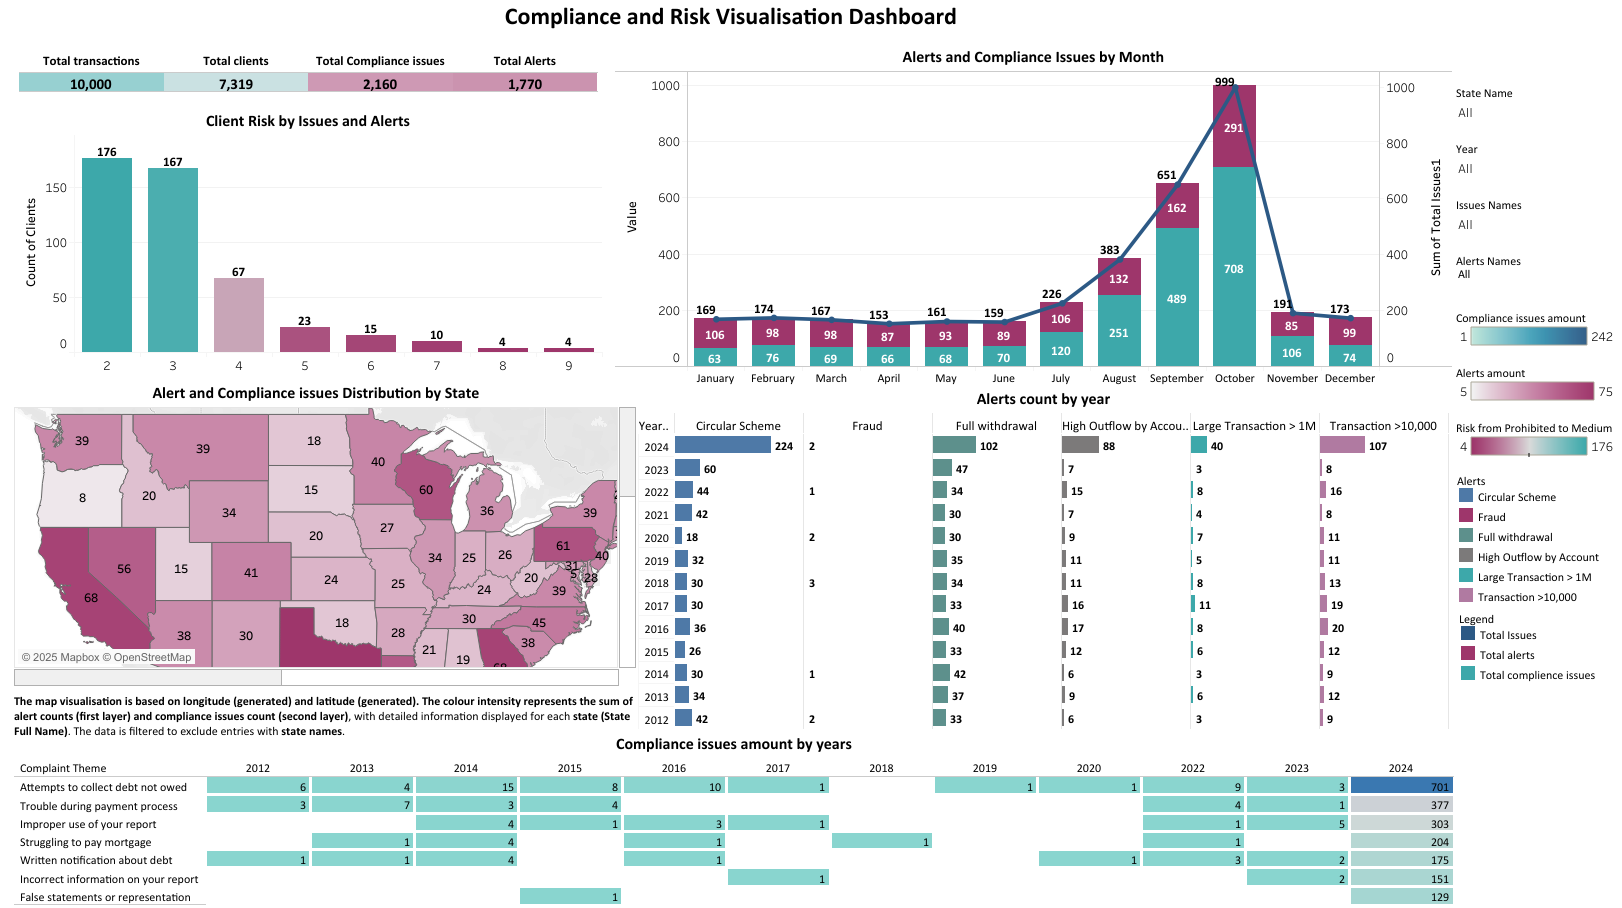

This screenshot's page, from the dashboard's own definition file:
{"tool":"tableau","page":{"name":"Compliance and Risk Visualization Dashboard (2)","canvas":[1623,909],"ordinal":0},"visuals":[{"type":"title","box":[20.9,0,1420.2,36.2]},{"type":"dashboard-object","box":[1388.5,16.7,25.8,22.3]},{"type":"worksheet","title":"Alerts and Compliance Issues by Month and Quarter (2012-2024)","mark":"Bar","rows":["Total Issues"],"cols":["Date received"],"box":[615.5,39.8,836.4,347.7]},{"type":"worksheet","title":"Operational Summary","mark":"Automatic","box":[19,44,579,62]},{"type":"filter","title":"Alert and Compliance issues Distribution by State","param":"[federated.08brgpm1keapxp1dqp4kh0hggp8w].[none:State Full Name:nk]","box":[1451.9,79.6,169.9,52]},{"type":"worksheet","title":"Client Risk by Issues and Alerts","mark":"Automatic","rows":["ACCOUNT_ID (client_compliance_analysis.csv)"],"cols":["Total Issues"],"box":[14.2,103.7,588.1,270.2]},{"type":"filter","title":"Complaint issues count by year","param":"[federated.08brgpm1keapxp1dqp4kh0hggp8w].[yr:Date received (merged_complaint_the","box":[1451.9,131.6,169.9,52]},{"type":"filter","title":"Complaint issues count by year","param":"[federated.08brgpm1keapxp1dqp4kh0hggp8w].[none:Complaint Theme:nk]","box":[1451.9,183.6,169.9,52]},{"type":"filter","title":"Alerts count by year (2012-2024)","param":"[federated.08brgpm1keapxp1dqp4kh0hggp8w].[none:Scenario:nk]","box":[1451.9,235.6,169.9,50]},{"type":"legend","title":"Alert and Compliance issues Distribution by State","param":"[federated.08brgpm1keapxp1dqp4kh0hggp8w].[cnt:Complaint Theme:qk]","box":[1451.9,285.6,169.9,55]},{"type":"legend","title":"Alert and Compliance issues Distribution by State","param":"[federated.08brgpm1keapxp1dqp4kh0hggp8w].[cnt:Scenario:qk]","box":[1451.9,340.6,169.9,55]},{"type":"worksheet","title":"Alert and Compliance issues Distribution by State","mark":"Automatic","box":[14,376,622,360]},{"type":"worksheet","title":"Alerts count by year (2012-2024)","mark":"Automatic","rows":["Date"],"cols":["Scenario","Scenario"],"box":[638,382,815,348]},{"type":"legend","title":"Client Risk by Issues and Alerts","param":"[federated.08brgpm1keapxp1dqp4kh0hggp8w].[cnt:ACCOUNT_ID (client_compliance_anal","box":[1451.9,395.6,169.9,58]},{"type":"legend","title":"Alerts count by year (2012-2024)","param":"[federated.08brgpm1keapxp1dqp4kh0hggp8w].[none:Scenario:nk]","box":[1451.9,453.6,169.9,152]},{"type":"legend","title":"Alerts and Compliance Issues by Month and Quarter (2012-2024)","param":"[federated.08brgpm1keapxp1dqp4kh0hggp8w].[:Measure Names]","box":[1455,600,170,91]},{"type":"worksheet","title":"Complaint issues count by year","mark":"Automatic","rows":["Complaint Theme"],"cols":["Date received (merged_complaint_themes.csv)"],"box":[14,729,1440,176]}]}

Visuals, with their boxes in screenshot pixels (x1, y1, x2, y2), scaled from the page's 1623x909 canvas onto the 1622x908 screenshot:
title: select_region(21, 0, 1440, 36)
dashboard-object: select_region(1388, 17, 1413, 39)
"Alerts and Compliance Issues by Month and Quarter (2012-2024)" worksheet (Bar marks): select_region(615, 40, 1451, 387)
"Operational Summary" worksheet: select_region(19, 44, 598, 106)
"Alert and Compliance issues Distribution by State" filter: select_region(1451, 80, 1621, 131)
"Client Risk by Issues and Alerts" worksheet: select_region(14, 104, 602, 373)
"Complaint issues count by year" filter: select_region(1451, 131, 1621, 183)
"Complaint issues count by year" filter: select_region(1451, 183, 1621, 235)
"Alerts count by year (2012-2024)" filter: select_region(1451, 235, 1621, 285)
"Alert and Compliance issues Distribution by State" legend: select_region(1451, 285, 1621, 340)
"Alert and Compliance issues Distribution by State" legend: select_region(1451, 340, 1621, 395)
"Alert and Compliance issues Distribution by State" worksheet: select_region(14, 376, 636, 735)
"Alerts count by year (2012-2024)" worksheet: select_region(638, 382, 1452, 729)
"Client Risk by Issues and Alerts" legend: select_region(1451, 395, 1621, 453)
"Alerts count by year (2012-2024)" legend: select_region(1451, 453, 1621, 605)
"Alerts and Compliance Issues by Month and Quarter (2012-2024)" legend: select_region(1454, 599, 1621, 690)
"Complaint issues count by year" worksheet: select_region(14, 728, 1453, 904)
